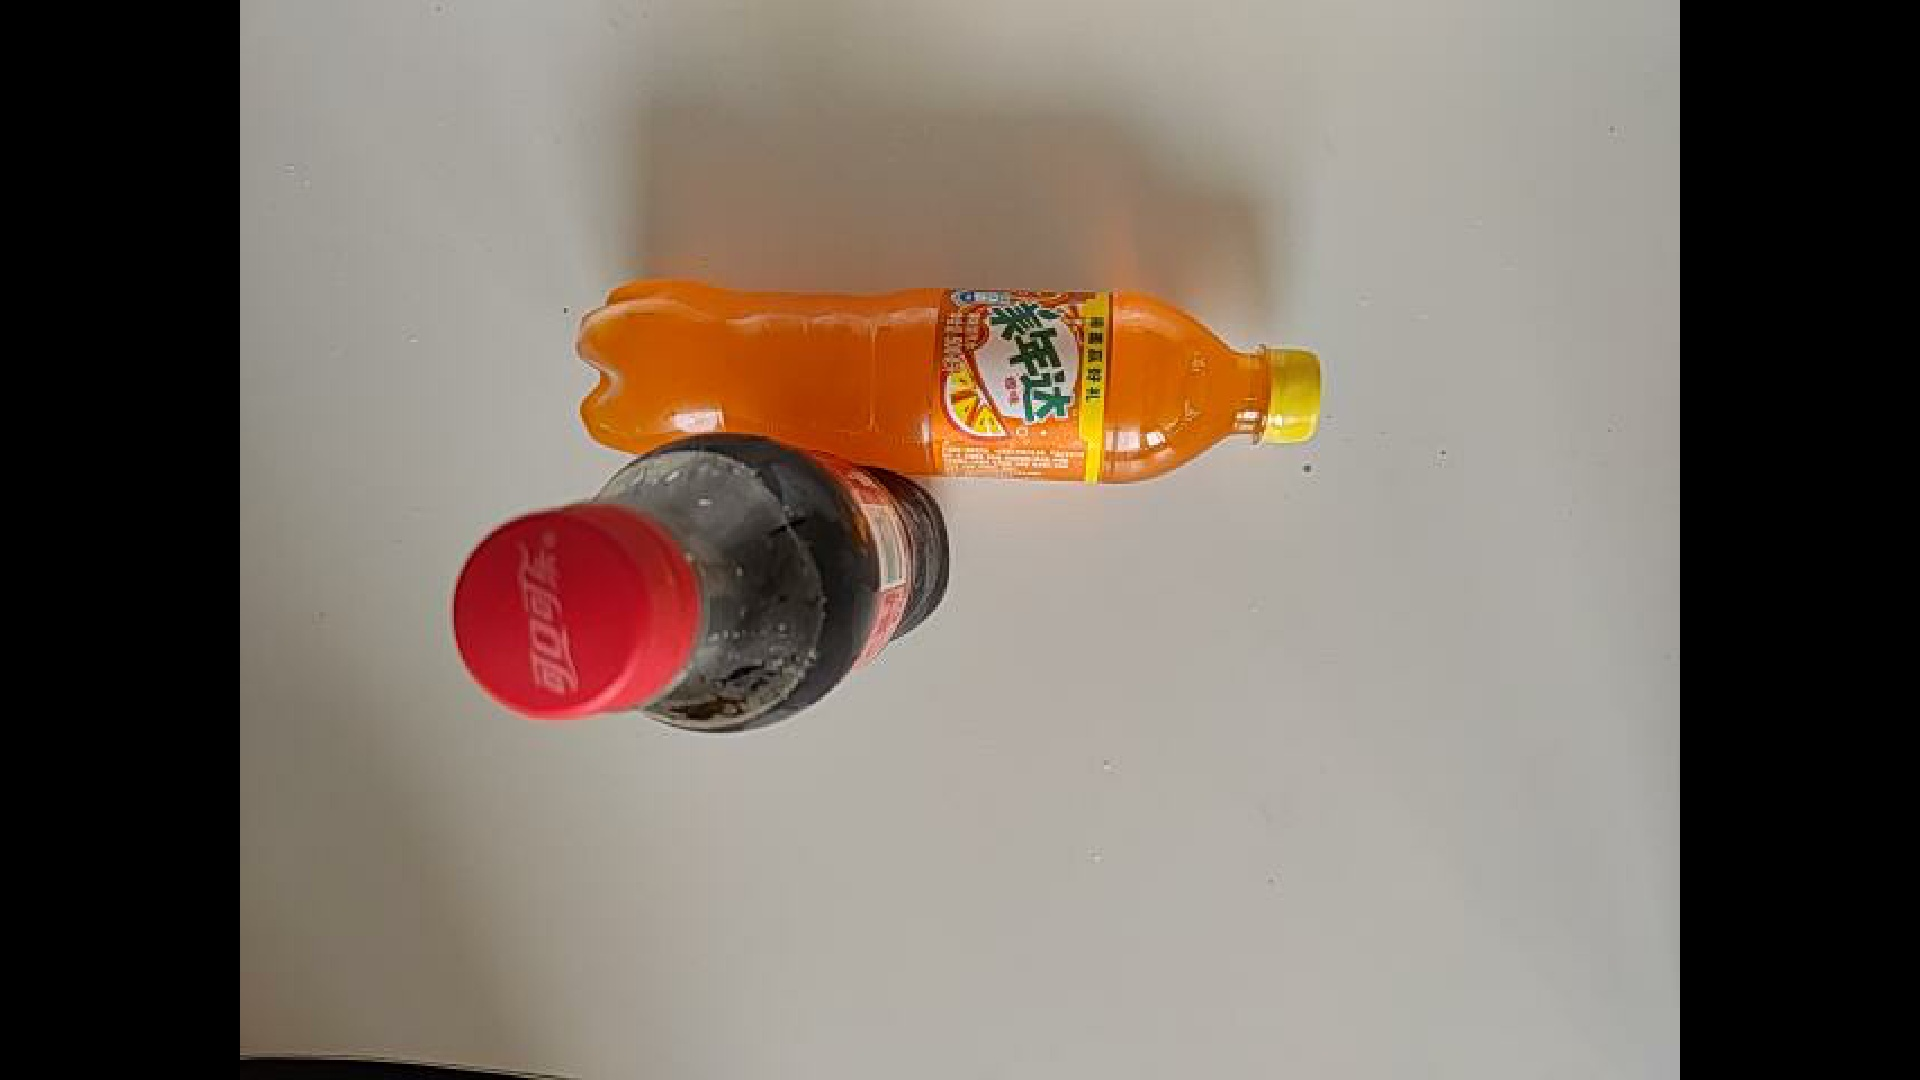cola: (450, 430, 951, 736)
fenta: (564, 272, 1328, 484)
